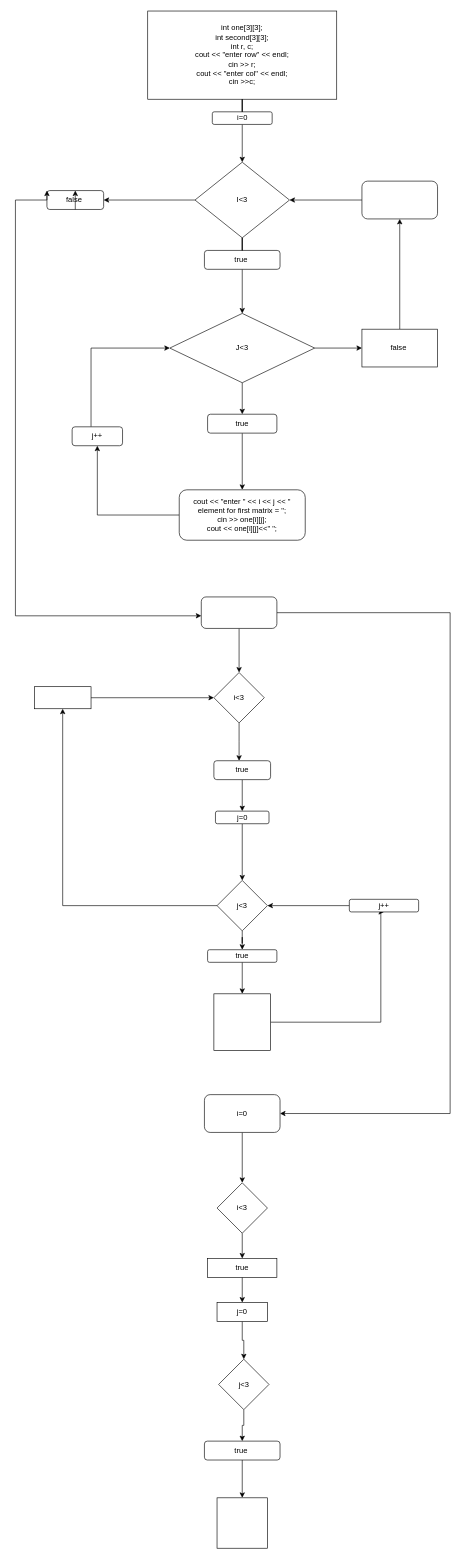
This 466x1559 diagram has some shape labels left out. The shapes that lost their labels are listed below. From the top down, each one's centre as x and y in pixels, then its label:
the point at 399,199: i ++
the point at 239,612: i-0
the point at 62,697: cout << endl; i++
the point at 242,1022: cout << one[i][j] <<" "; if (j == c - 1);
the point at 241,1522: second[j][i] = one[i][j];
